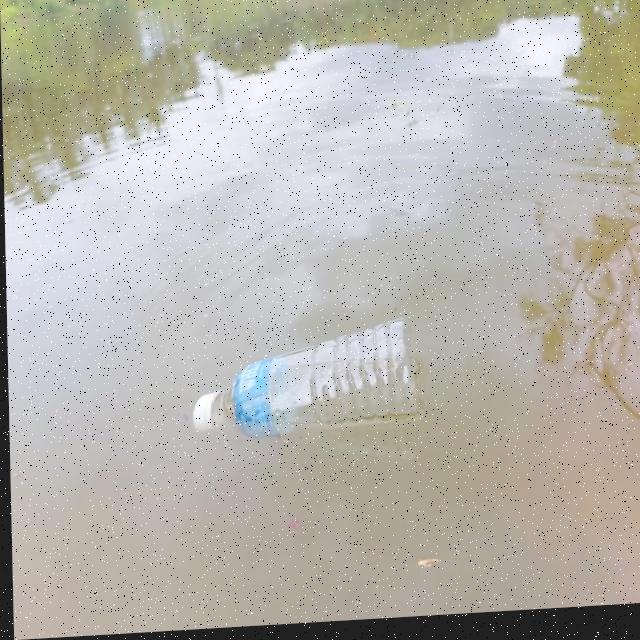waterbottle: (173, 302, 429, 446)
